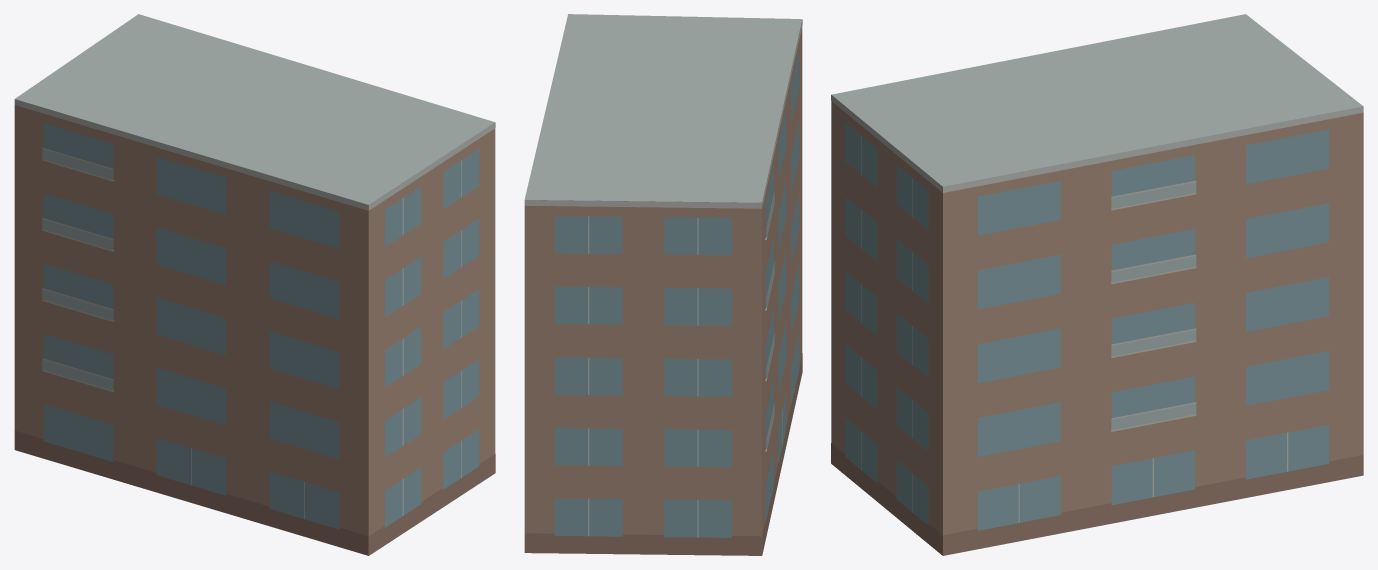
Rendered from survey-upis-32894208.glb.
The picture shows the model from 3 angles, left to right: view 1: azimuth 30°, elevation 25°; view 2: azimuth 150°, elevation 25°; view 3: azimuth 270°, elevation 25°; orthographic projection. The views are drawn at different scales.
Visible parts, largest first — view 1: survey-upis-32894208.tmp; view 2: survey-upis-32894208.tmp; view 3: survey-upis-32894208.tmp.
Boxes of the visible parts, x1=… form: survey-upis-32894208.tmp: x1=14, y1=14, x2=495, y2=555; survey-upis-32894208.tmp: x1=524, y1=14, x2=802, y2=555; survey-upis-32894208.tmp: x1=831, y1=14, x2=1363, y2=555.
Size of the model in its own units: 14.57 by 14.5 by 18.97.
